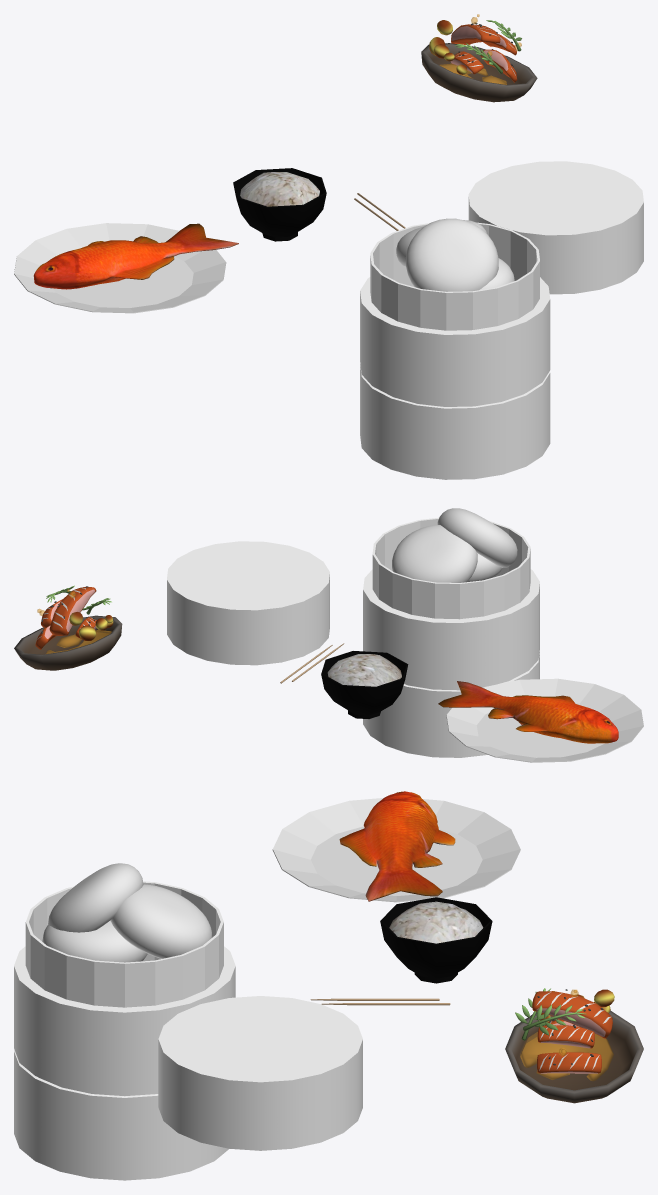
File: nianyefan7.glb
3 renders of one model, top to bottom at view 1: azimuth 30°, elevation 25°; view 2: azimuth 150°, elevation 25°; view 3: azimuth 270°, elevation 25°, orthographic. The views are drawn at different scales.
Visible parts, largest first — view 1: contaner_container1_0, cover_container1_0, Plate_0, Object_2, Sphere.002, Cylinder.018_FryingPan_0, Mesh_0.001, Mesh_2.001, Cylinder.018_Salmon_Base_0, Cylinder.018_Potato_0, Cylinder.018_Salmon_Tender_0; view 2: contaner_container1_0, cover_container1_0, Plate_0, Object_2, Sphere.001, Cylinder.018_FryingPan_0, Mesh_0.001, Sphere.002, Mesh_2.001, Cylinder.018_Salmon_Base_0, Cylinder.018_Potato_0, Cylinder.018_Oil_0 (+2 smaller); view 3: contaner_container1_0, cover_container1_0, Plate_0, Object_2, Cylinder.018_FryingPan_0, Sphere.001, Mesh_0.001, Sphere.002, Cylinder.018_Salmon_Base_0, Mesh_2.001, Sphere, Cylinder.018_Oil_0 (+2 smaller).
Boxes of the visible parts, x1,y1,x2,y2 form: contaner_container1_0: (360, 222, 550, 479); cover_container1_0: (468, 161, 643, 294); Plate_0: (14, 223, 226, 313); Object_2: (33, 223, 238, 289); Sphere.002: (406, 218, 498, 291); Cylinder.018_FryingPan_0: (421, 43, 537, 102); Mesh_0.001: (233, 168, 326, 241); Mesh_2.001: (240, 172, 319, 206); Cylinder.018_Salmon_Base_0: (451, 24, 517, 82); Cylinder.018_Potato_0: (429, 20, 467, 74); Cylinder.018_Salmon_Tender_0: (451, 26, 508, 73); contaner_container1_0: (363, 517, 539, 757); cover_container1_0: (167, 541, 329, 665); Plate_0: (446, 678, 643, 762); Object_2: (438, 681, 618, 743); Sphere.001: (392, 525, 477, 582); Cylinder.018_FryingPan_0: (14, 615, 122, 670); Mesh_0.001: (321, 651, 408, 718); Sphere.002: (437, 508, 517, 567); Mesh_2.001: (327, 654, 401, 686); Cylinder.018_Salmon_Base_0: (35, 587, 96, 649); Cylinder.018_Potato_0: (69, 612, 113, 640); Cylinder.018_Oil_0: (37, 589, 111, 653); contaner_container1_0: (14, 881, 235, 1180); cover_container1_0: (158, 996, 362, 1150); Plate_0: (272, 798, 520, 902); Object_2: (339, 791, 455, 901); Cylinder.018_FryingPan_0: (505, 1010, 643, 1103); Sphere.001: (110, 884, 212, 958); Mesh_0.001: (380, 897, 492, 983); Sphere.002: (48, 863, 143, 932); Cylinder.018_Salmon_Base_0: (532, 991, 612, 1073); Mesh_2.001: (389, 901, 483, 943); Sphere: (42, 921, 147, 962); Cylinder.018_Oil_0: (520, 989, 613, 1080).
Size of the model in its own units: 14.24 by 5.41 by 11.58.
Materials: 14 (5 with a texture image).
